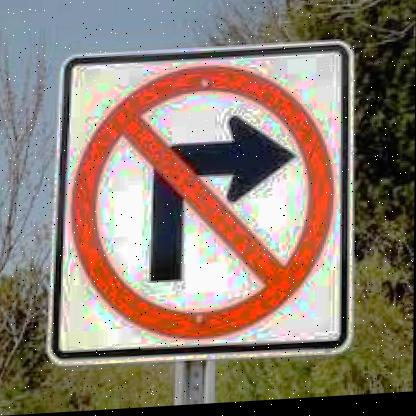No right turn: (68, 51, 342, 345)
